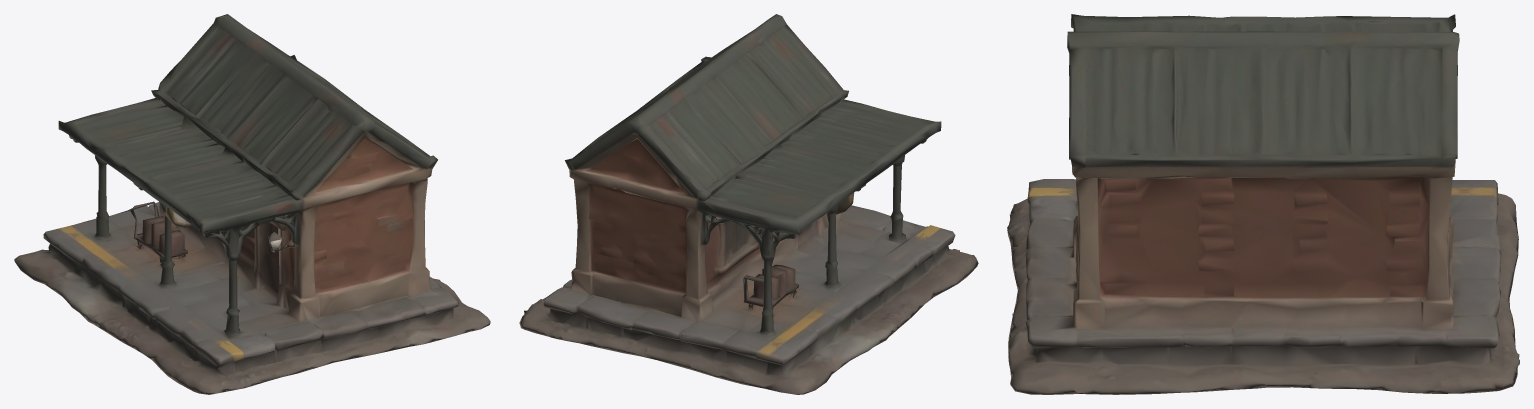
The model's file is railway_station_main.glb.
3 views of the same model, side by side, from view 1: azimuth 30°, elevation 25°; view 2: azimuth 150°, elevation 25°; view 3: azimuth 270°, elevation 25° (orthographic). The views are drawn at different scales.
Visible parts, largest first — view 1: tripo_node_4f130547-3c34-41a6-bd22-eaf3721a4402; view 2: tripo_node_4f130547-3c34-41a6-bd22-eaf3721a4402; view 3: tripo_node_4f130547-3c34-41a6-bd22-eaf3721a4402.
Part boxes in pixels (x1=…): tripo_node_4f130547-3c34-41a6-bd22-eaf3721a4402: x1=14, y1=14, x2=490, y2=394; tripo_node_4f130547-3c34-41a6-bd22-eaf3721a4402: x1=519, y1=14, x2=978, y2=394; tripo_node_4f130547-3c34-41a6-bd22-eaf3721a4402: x1=1007, y1=14, x2=1519, y2=394.
Bounding box in the file's own units: 0.9148 × 0.6357 × 1.
1 material, 1 textured.
